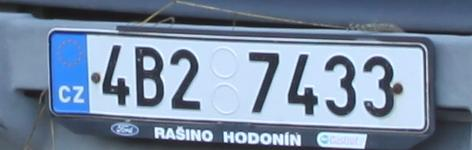2: (169, 49, 201, 109)
3: (363, 55, 393, 117), (324, 55, 354, 116)
4: (288, 55, 318, 115), (103, 46, 129, 106)
7: (247, 52, 280, 113)
B: (135, 47, 164, 106)
